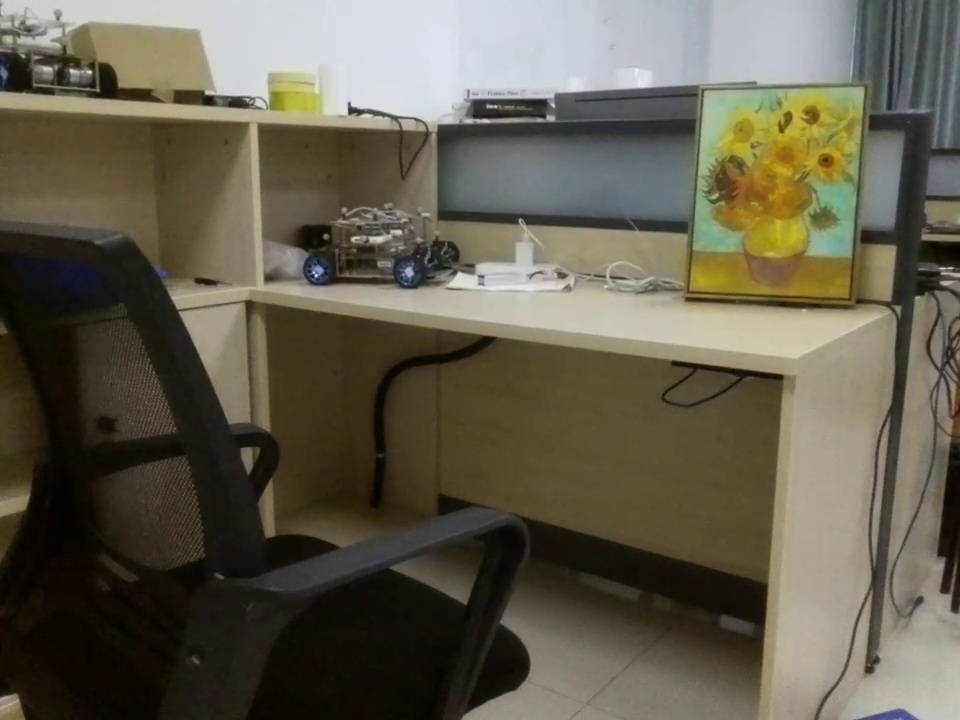painting: (686, 80, 880, 315)
